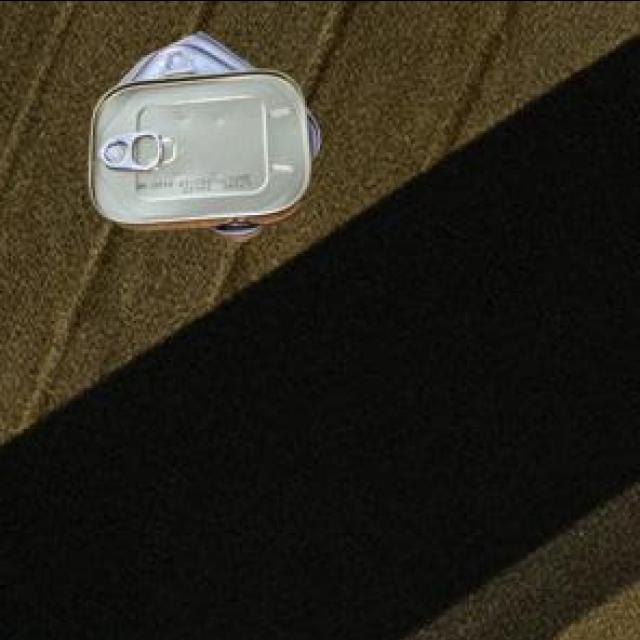logam: (92, 27, 323, 235)
